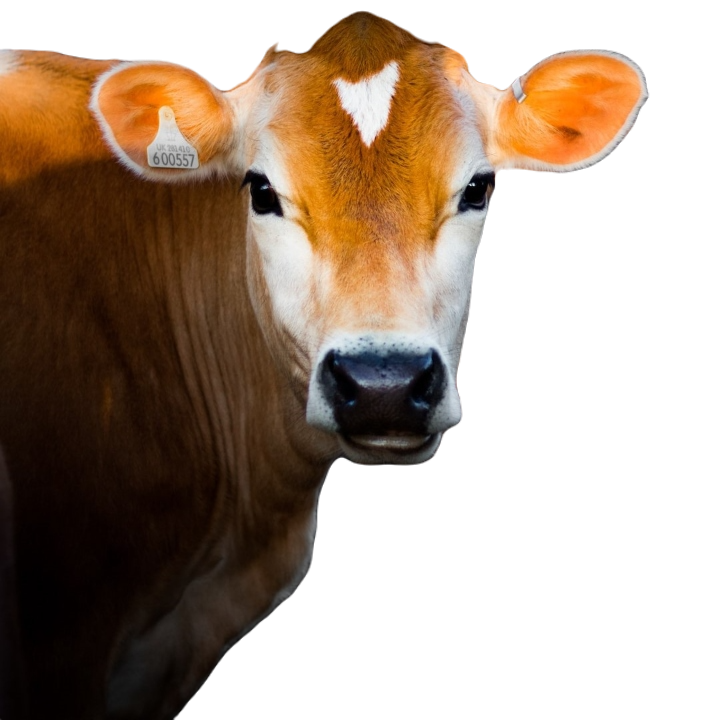Cow: (0, 5, 649, 719)
